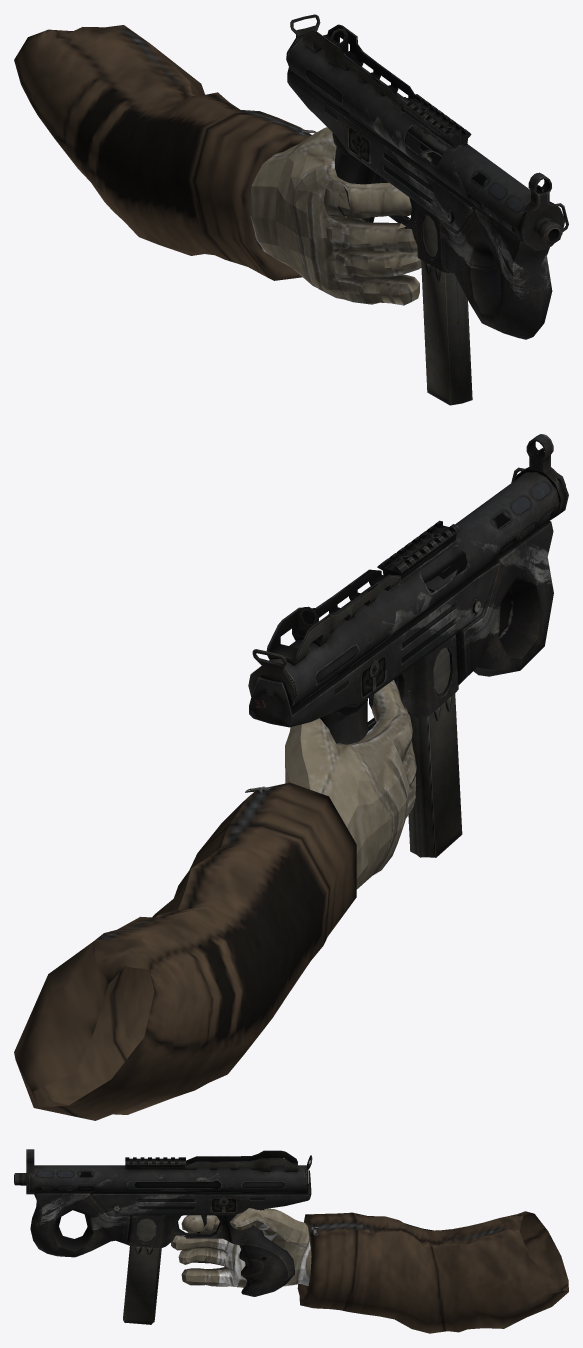
Rendered from FPSGun.dae.
3 renders of one model, top to bottom at view 1: azimuth 30°, elevation 25°; view 2: azimuth 150°, elevation 25°; view 3: azimuth 270°, elevation 25°, orthographic. The views are drawn at different scales.
Parts seen in each view (by area): view 1: _3DGeom_5_Defintion, instance_2, instance_3, _3DGeom_6_Defintion (×6); view 2: _3DGeom_5_Defintion, instance_2, instance_3, _3DGeom_6_Defintion (×2); view 3: _3DGeom_5_Defintion, instance_2, instance_3, _3DGeom_6_Defintion.
Part boxes in pixels (x1=…): _3DGeom_5_Defintion: x1=14, y1=25, x2=311, y2=280; instance_2: x1=286, y1=14, x2=568, y2=339; instance_3: x1=420, y1=149, x2=472, y2=405; _3DGeom_6_Defintion (×6): x1=275, y1=181, x2=411, y2=288; _3DGeom_5_Defintion: x1=14, y1=782, x2=356, y2=1120; instance_2: x1=248, y1=434, x2=568, y2=783; instance_3: x1=408, y1=588, x2=462, y2=857; _3DGeom_6_Defintion (×2): x1=371, y1=680, x2=414, y2=763; _3DGeom_5_Defintion: x1=297, y1=1211, x2=568, y2=1333; instance_2: x1=14, y1=1149, x2=312, y2=1296; instance_3: x1=123, y1=1218, x2=161, y2=1324; _3DGeom_6_Defintion: x1=181, y1=1215, x2=219, y2=1233.
Size of the model in its own units: 7.26 by 41.37 by 15.17.
